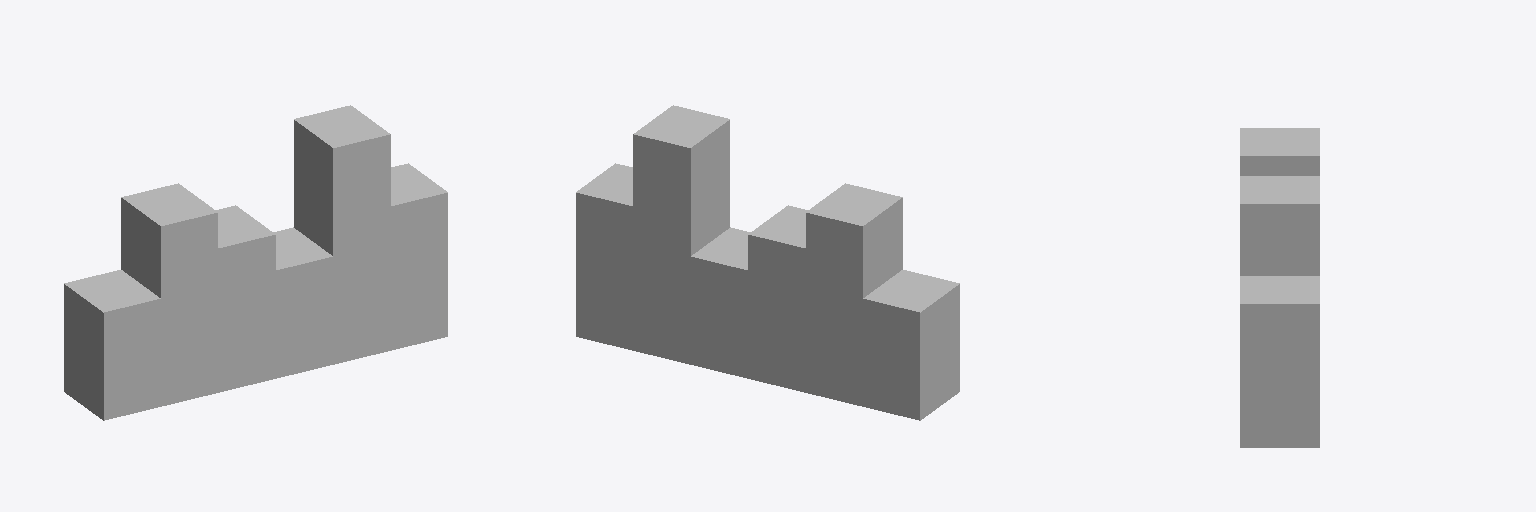
Rendered from mylandscaping_deco_wall_ra.obj.
3 renders of one model, left to right at view 1: azimuth 30°, elevation 25°; view 2: azimuth 150°, elevation 25°; view 3: azimuth 270°, elevation 25°, orthographic.
Visible parts, largest first — view 1: Cube.001_Cube.038_Smooth; view 2: Cube.001_Cube.038_Smooth; view 3: Cube.001_Cube.038_Smooth.
Boxes of the visible parts, box(x1,y1,x2,y2) form: Cube.001_Cube.038_Smooth: box(64, 105, 447, 420); Cube.001_Cube.038_Smooth: box(576, 105, 959, 420); Cube.001_Cube.038_Smooth: box(1240, 128, 1319, 447).
Bounding box in the file's own units: 1 × 0.6 × 0.2.